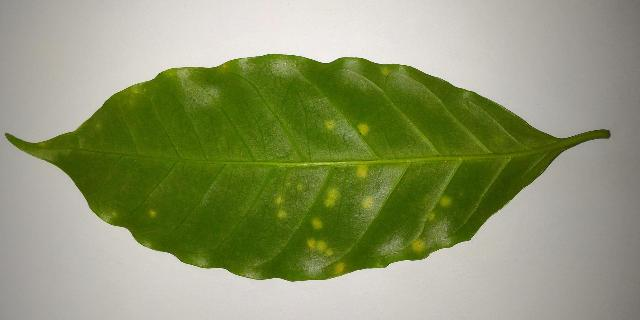miner: (308, 239, 332, 256), (356, 164, 372, 179), (325, 188, 338, 206), (412, 239, 424, 251), (362, 196, 373, 209), (334, 262, 344, 276), (358, 124, 369, 135), (312, 219, 321, 228), (278, 208, 286, 218), (276, 195, 284, 205), (441, 198, 450, 206), (297, 183, 304, 190), (326, 122, 333, 129), (382, 68, 389, 75), (428, 213, 434, 219), (150, 210, 156, 216)
